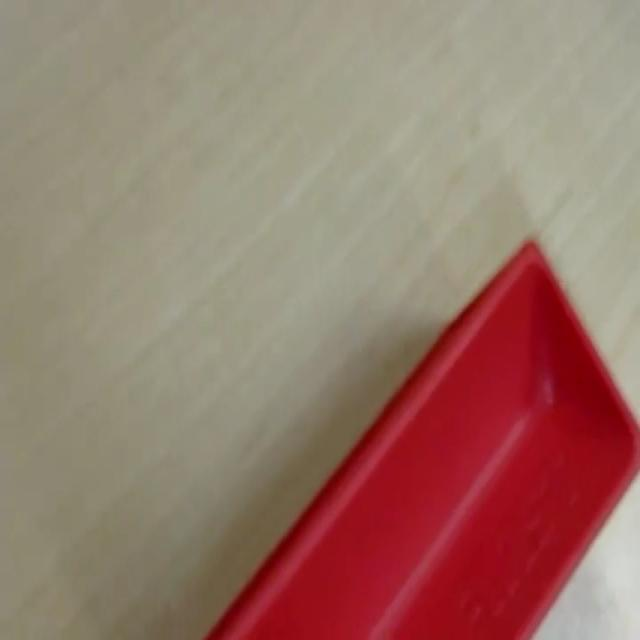red_block: (202, 235, 638, 637)
